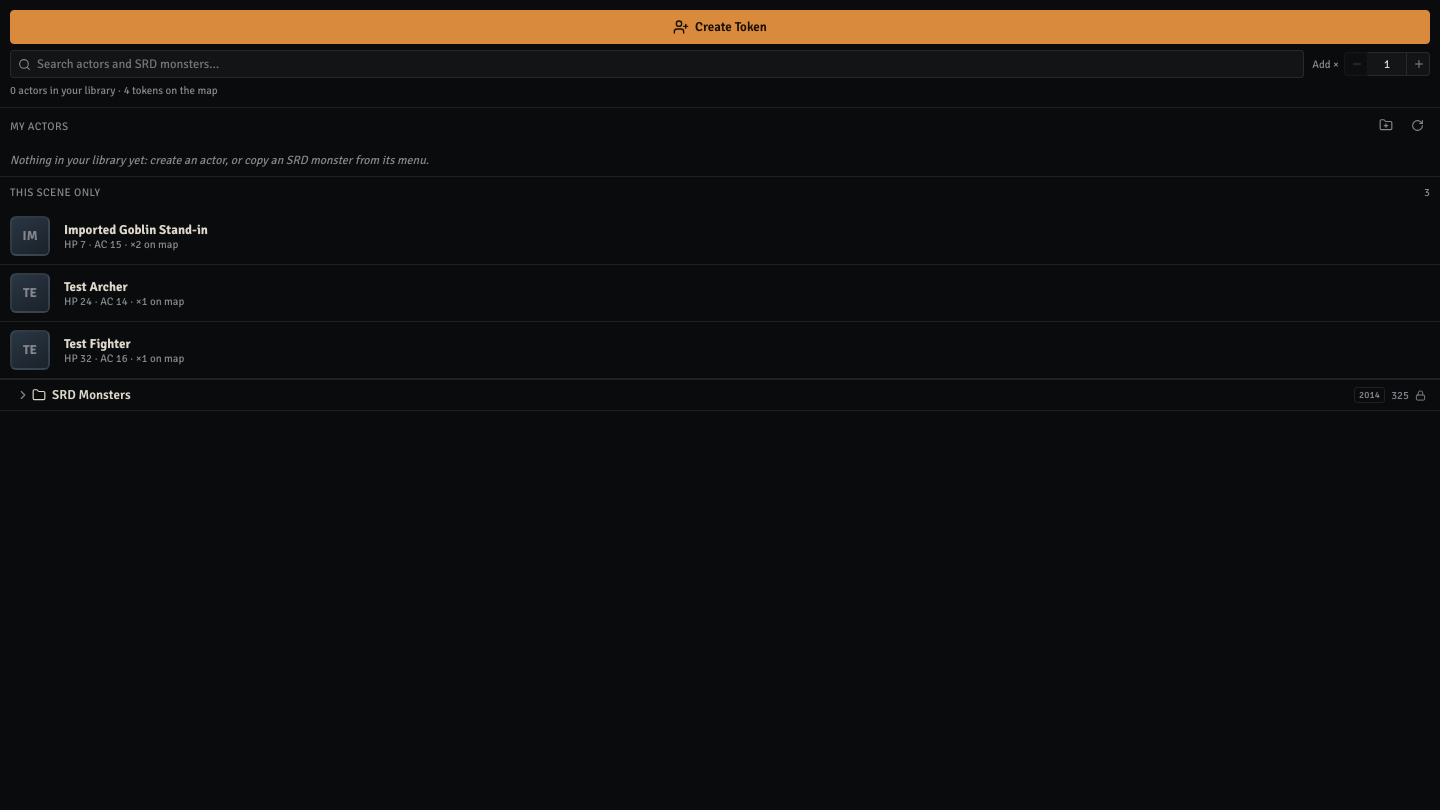
Test: SRD monster search › lets you collapse a folder while searching, and reopens everything when the search changes
The image size is (1440, 810).
Click the text "SRD Monsters" at (91, 395), box [52,387,131,403]
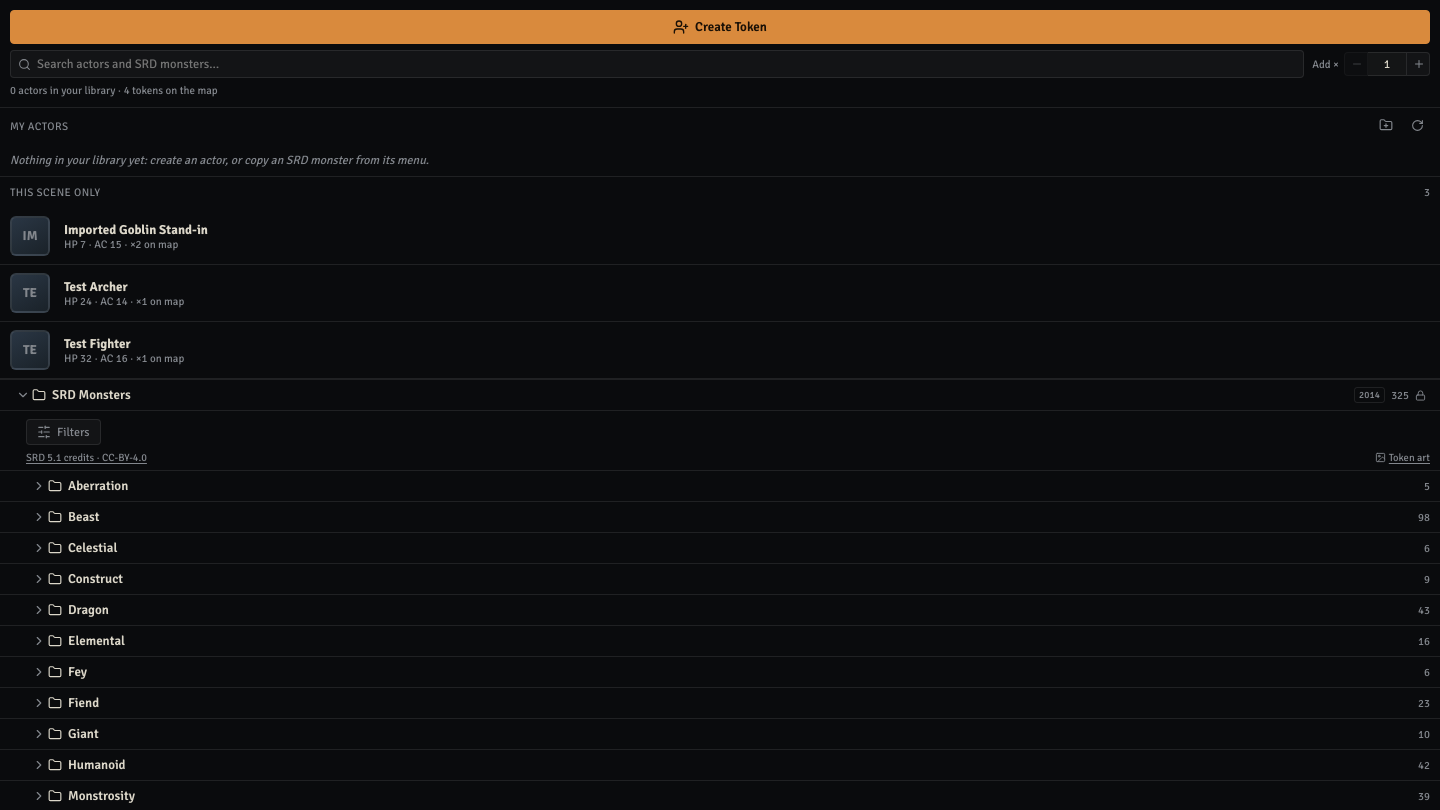
Type "wolf" into the search field labelled "Search actors" at (657, 64), box [10,50,1304,78]
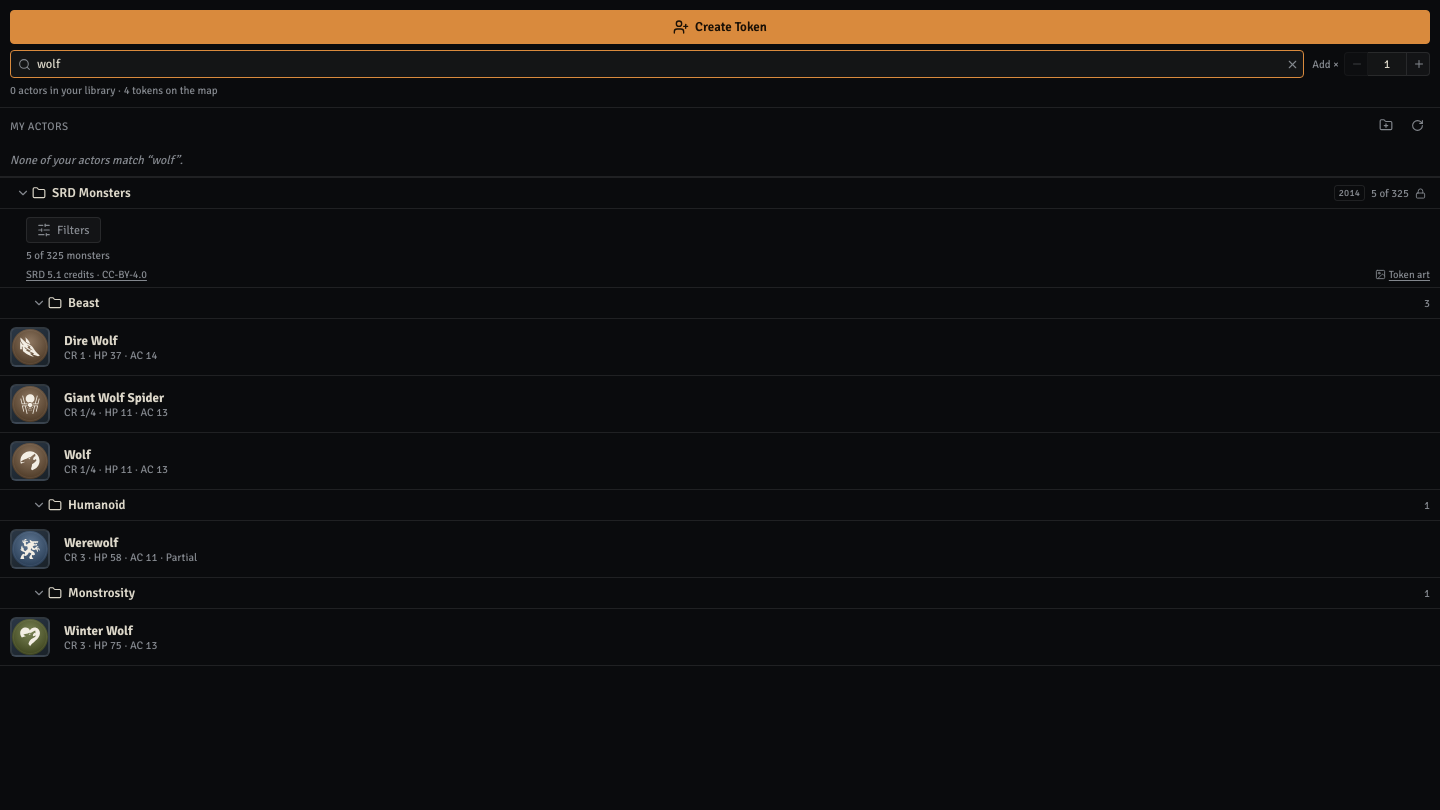
Click the button named "Collapse Beast" at (34, 303), box [26,295,42,311]
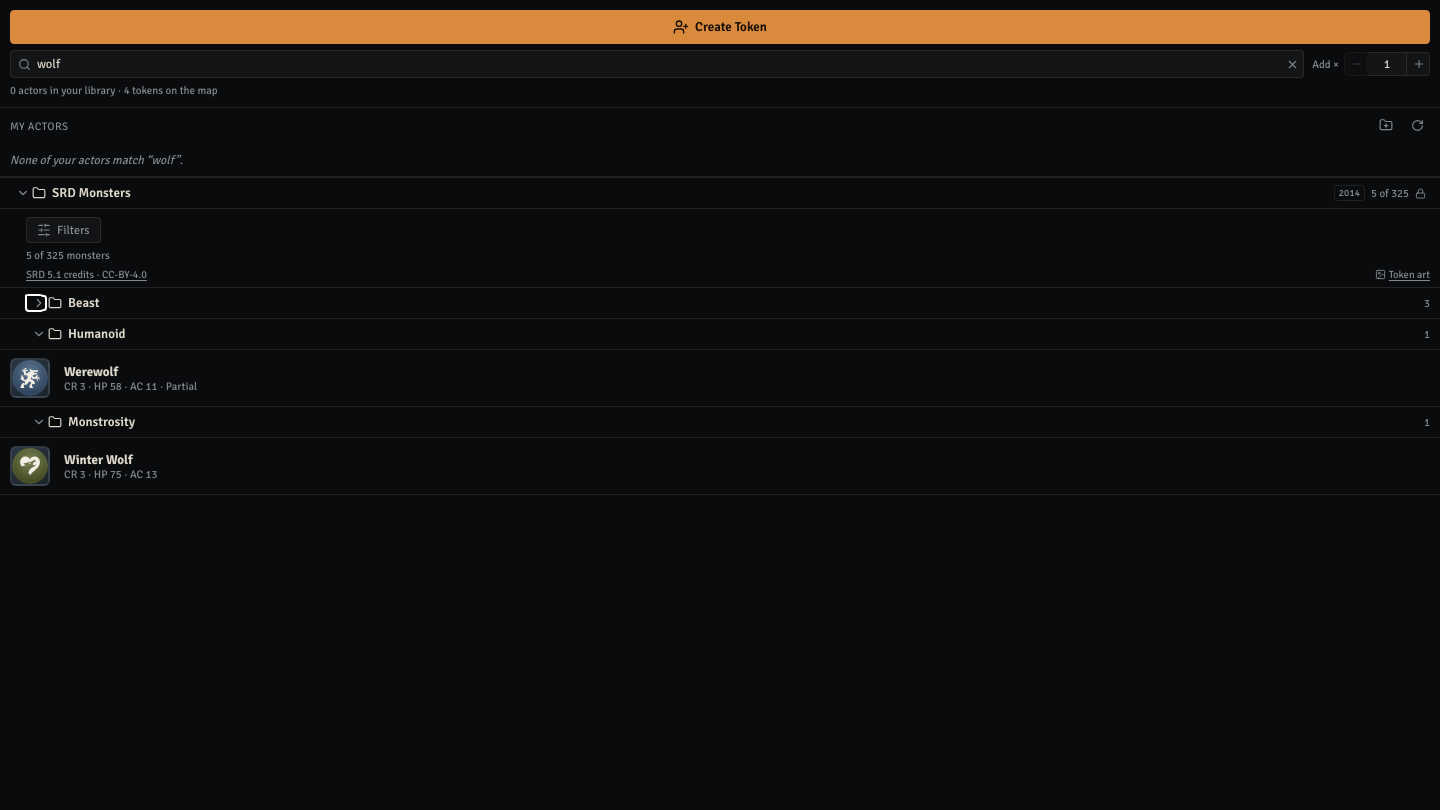
Expected: the button "Dire Wolf" is gone
Type "s" into the search field named "Search actors" at (657, 64), box [10,50,1304,78]
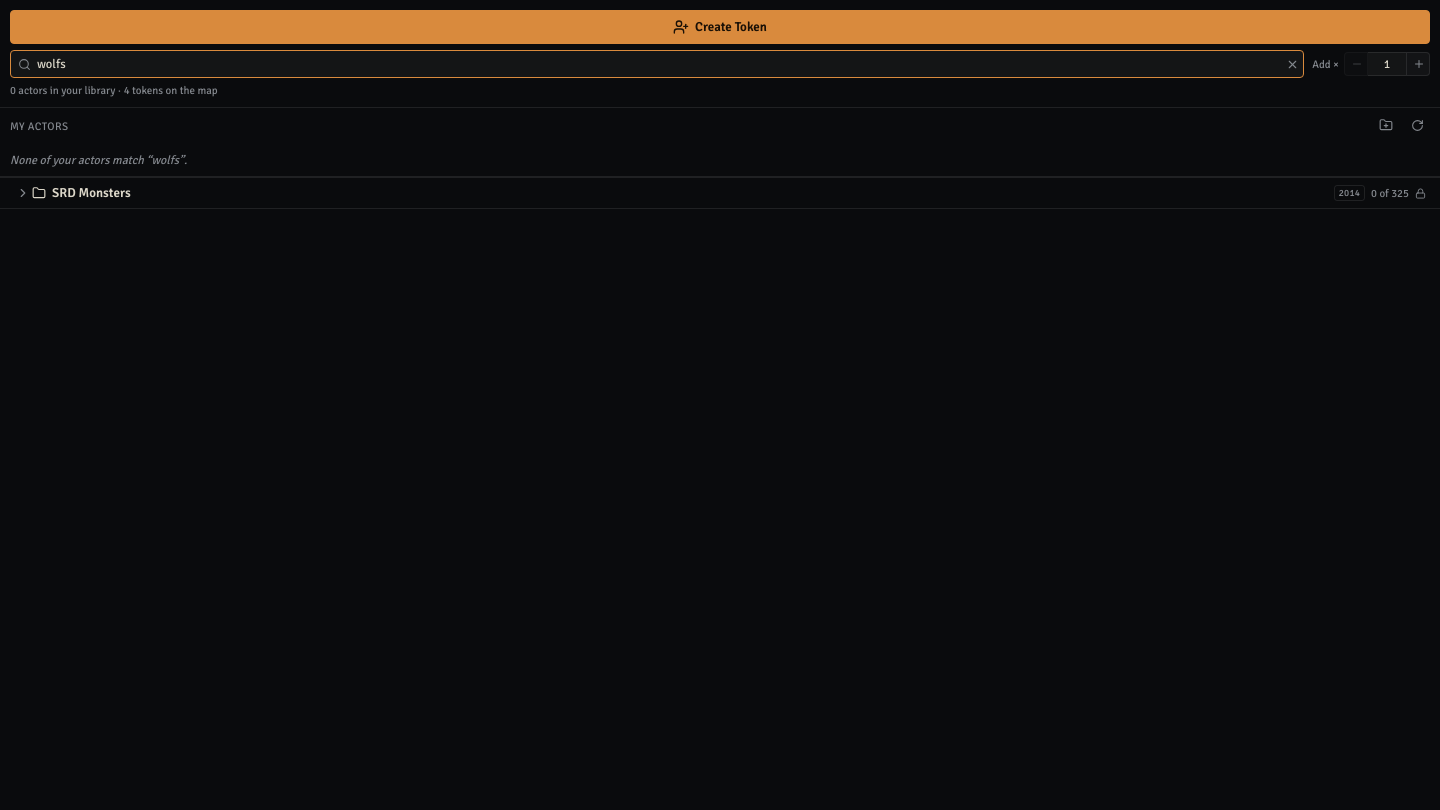
Replace the text in the search field named "Search actors" with "dire wolf" at (657, 64), box [10,50,1304,78]
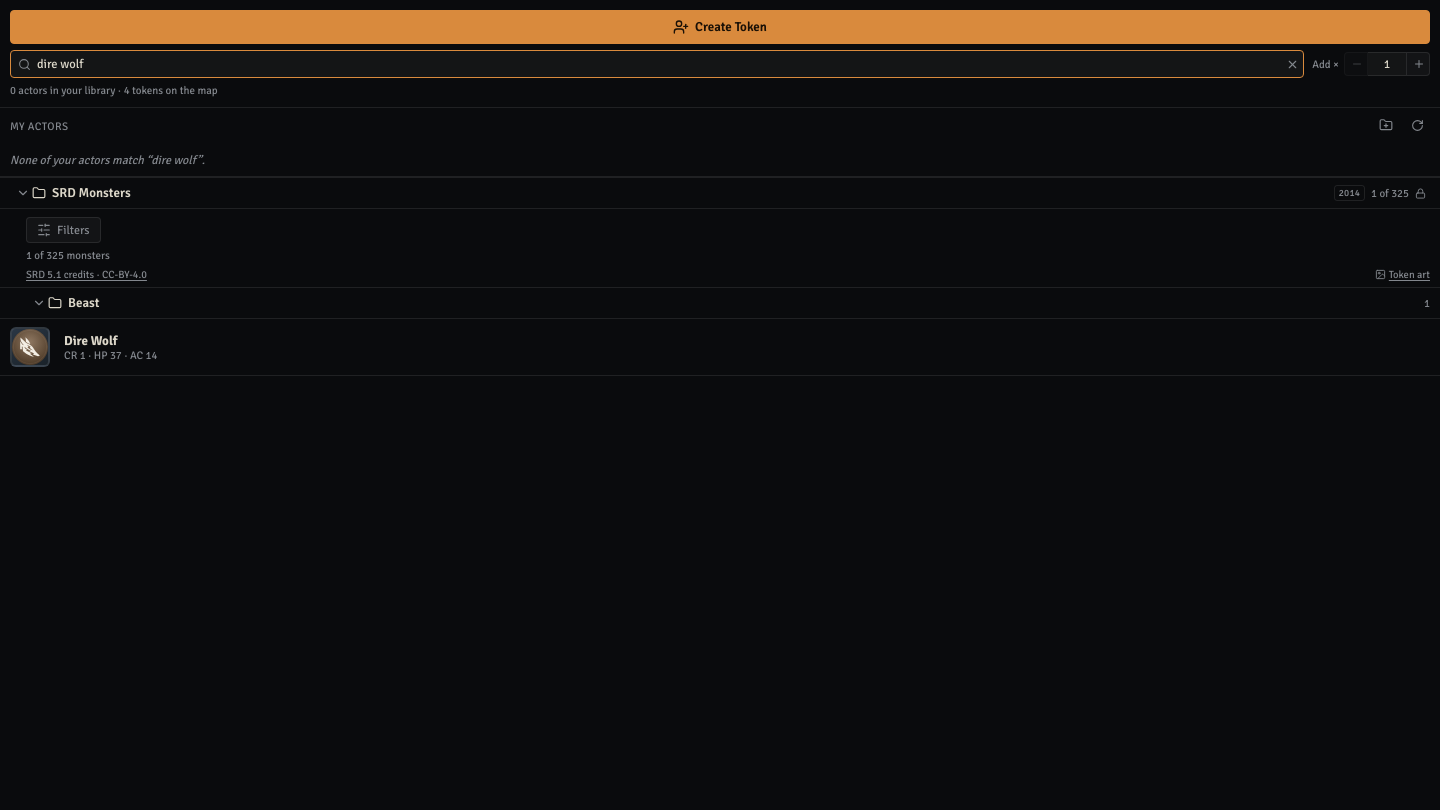
Expected: the text "Dire Wolf" is shown, [64,332,118,348]
